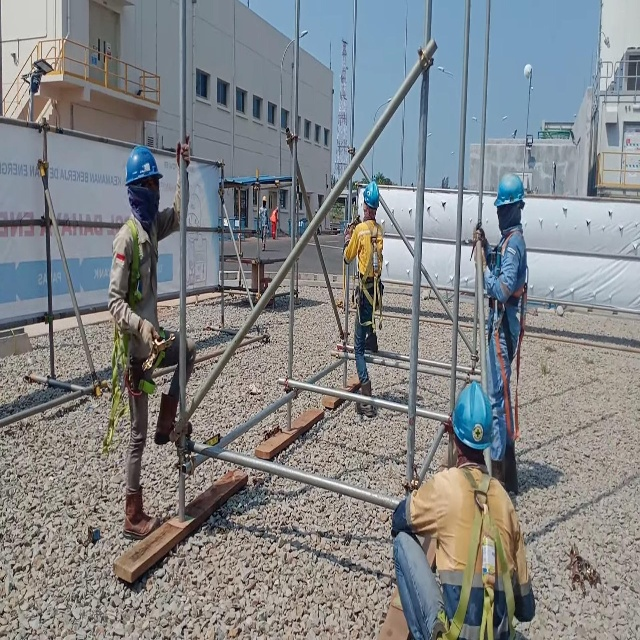Arnes_seguridad: (99, 215, 169, 447), (433, 461, 517, 640), (491, 229, 530, 441), (357, 219, 387, 331)
